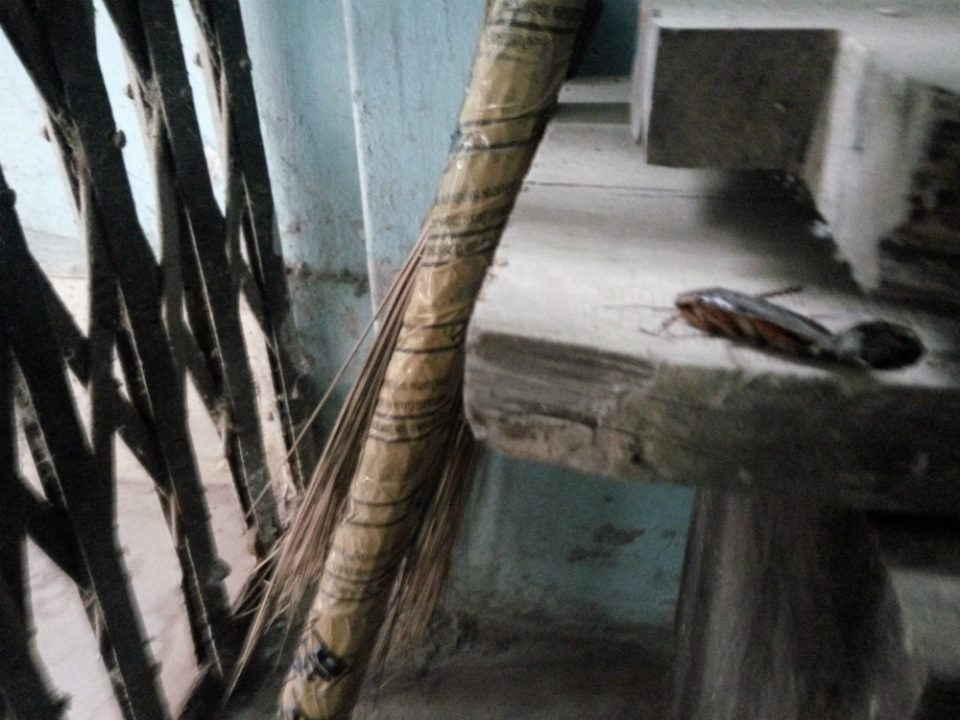cockroach: (647, 268, 944, 402)
